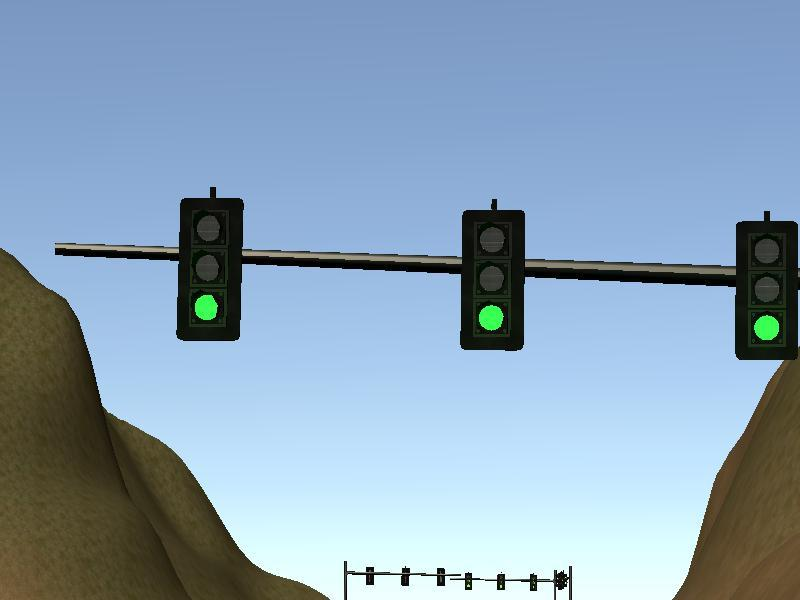Green: (736, 223, 796, 359), (180, 201, 239, 339), (463, 214, 521, 349)
